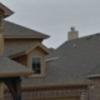chimneys: (68, 27, 78, 41)
